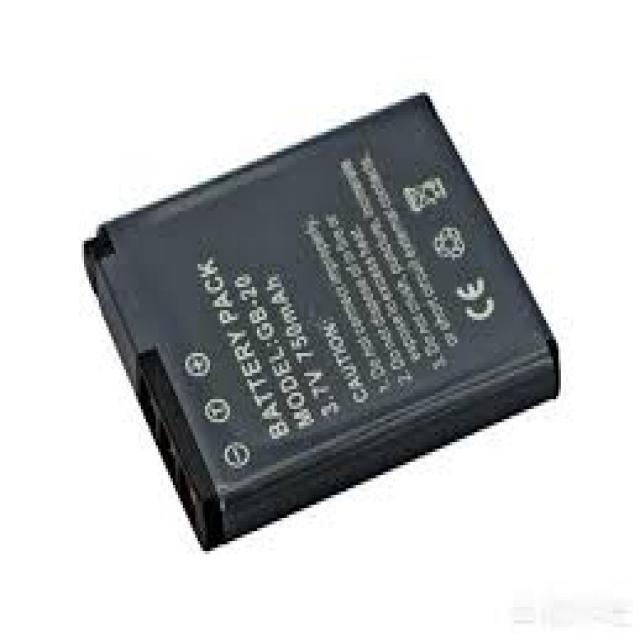battery: (84, 90, 563, 554)
